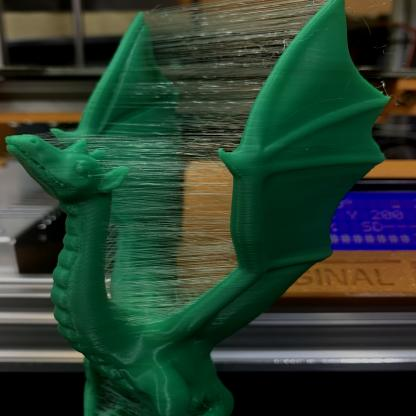fail: (106, 138, 238, 307), (144, 1, 336, 91)
